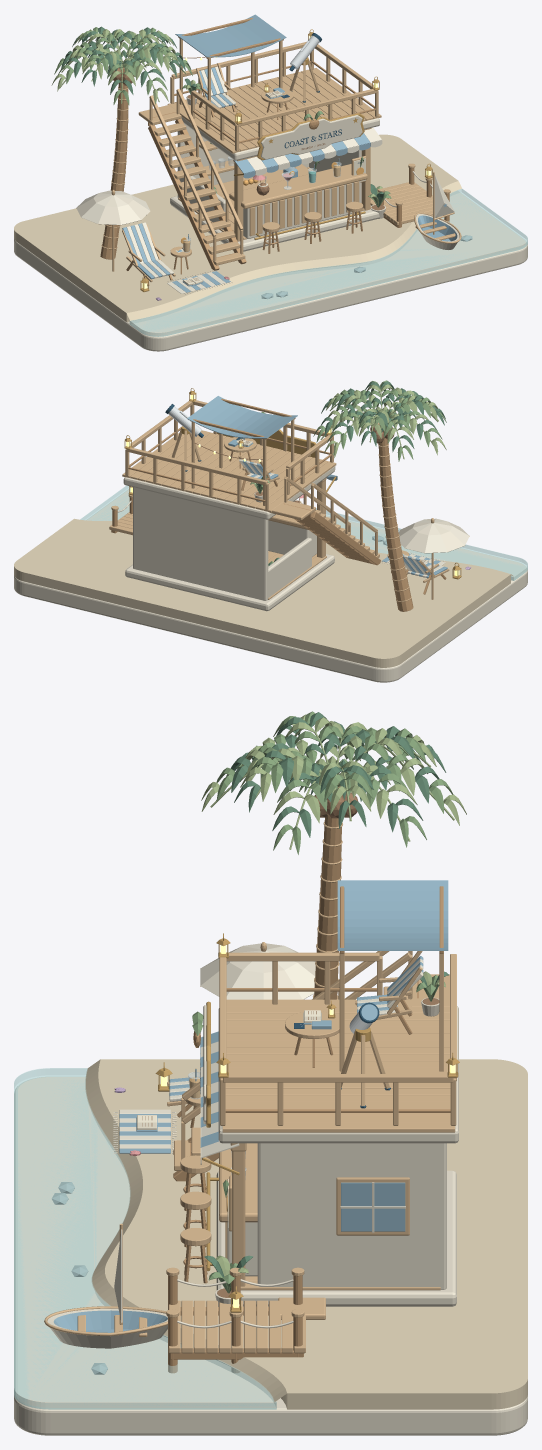
The model's file is midnight_coast.glb.
3 renders of one model, top to bottom at view 1: azimuth 30°, elevation 25°; view 2: azimuth 150°, elevation 25°; view 3: azimuth 270°, elevation 25°, orthographic. The views are drawn at different scales.
Visible parts, largest first — view 1: DisplayPlinth, BeachSand, WaterSurface, Building, TerraceStructure, WaterVolume, ExteriorStaircase, PartialTerraceCanopy, ShopSign, ShorelineSlope, StripedAwning, BeachUmbrella (+16 smaller); view 2: BeachSand, Building, TerraceStructure, DisplayPlinth, PartialTerraceCanopy, ExteriorStaircase, WaterSurface, PalmTrunk, WaterVolume, BeachUmbrella, BeachChair, PalmFrond_6 (+11 smaller); view 3: BeachSand, DisplayPlinth, Building, WaterSurface, TerraceStructure, WaterVolume, Pier, PartialTerraceCanopy, Boat, ShorelineSlope, BeachUmbrella, PalmTrunk (+19 smaller).
Boxes of the visible parts, x1,y1,x2,y2 form: DisplayPlinth: (14, 191, 527, 351); BeachSand: (14, 134, 458, 321); WaterSurface: (131, 189, 527, 332); Building: (170, 123, 379, 251); TerraceStructure: (167, 41, 381, 160); WaterVolume: (129, 189, 527, 336); ExteriorStaircase: (138, 88, 246, 270); PartialTerraceCanopy: (175, 14, 286, 124); ShopSign: (257, 111, 364, 160); ShorelineSlope: (126, 181, 461, 320); StripedAwning: (234, 127, 382, 178); BeachUmbrella: (76, 190, 150, 271); BeachSand: (14, 518, 510, 667); Building: (125, 478, 334, 611); TerraceStructure: (122, 400, 336, 519); DisplayPlinth: (14, 488, 527, 682); PartialTerraceCanopy: (187, 396, 297, 505); ExteriorStaircase: (256, 476, 380, 565); WaterSurface: (80, 485, 527, 576); PalmTrunk: (378, 423, 413, 611); WaterVolume: (81, 486, 527, 580); BeachUmbrella: (398, 518, 469, 599); BeachChair: (403, 554, 449, 594); PalmFrond_6: (390, 411, 446, 455); BeachSand: (98, 1059, 527, 1409); DisplayPlinth: (14, 1077, 527, 1435); Building: (206, 1143, 456, 1306); WaterSurface: (14, 1068, 274, 1401); TerraceStructure: (218, 952, 458, 1143); WaterVolume: (14, 1068, 276, 1409); Pier: (166, 1267, 325, 1373); PartialTerraceCanopy: (337, 880, 448, 1071); Boat: (44, 1223, 167, 1348); ShorelineSlope: (85, 1059, 286, 1402); BeachUmbrella: (200, 942, 315, 999); PalmTrunk: (313, 786, 342, 999).
Bounding box in the file's own units: 12.08 × 7 × 7.8.
